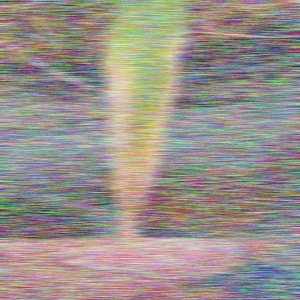Leaf_Blast: (99, 16, 184, 233)
